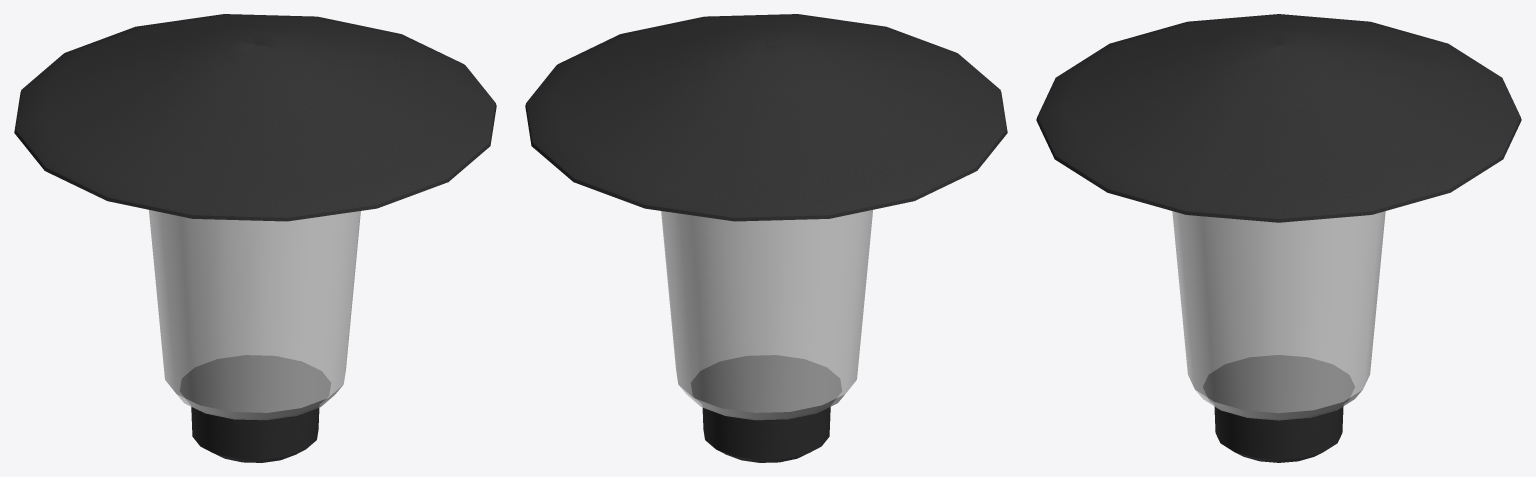
Rendered from Pilz.glb.
The picture shows the model from 3 angles, left to right: view 1: azimuth 30°, elevation 25°; view 2: azimuth 150°, elevation 25°; view 3: azimuth 270°, elevation 25°; orthographic projection.
Parts seen in each view (by area): view 1: Pilz, Pilz Glas; view 2: Pilz, Pilz Glas; view 3: Pilz, Pilz Glas.
Boxes of the visible parts, box(x1,y1,x2,y2) form: Pilz: box(14, 14, 496, 462); Pilz Glas: box(149, 210, 360, 420); Pilz: box(525, 14, 1007, 462); Pilz Glas: box(661, 210, 872, 420); Pilz: box(1036, 14, 1521, 462); Pilz Glas: box(1172, 211, 1385, 420).
Bounding box in the file's own units: 0.65 × 0.585 × 0.65.
3 materials, 2 textured.
